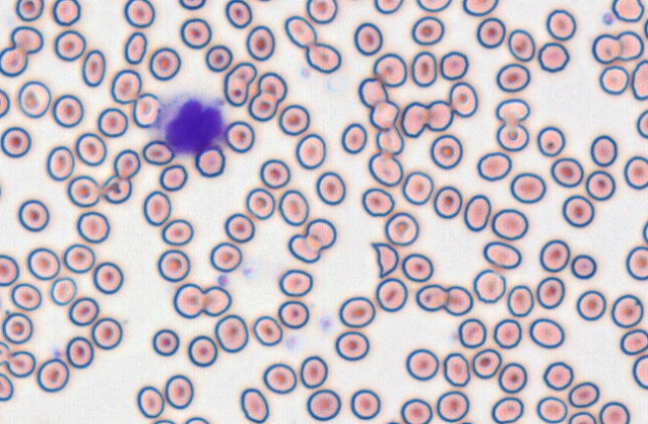MONO: (154, 91, 227, 163)
PLT: (319, 314, 336, 332), (216, 272, 231, 288), (602, 12, 616, 26)
RBC: (223, 62, 257, 106), (17, 80, 51, 118), (214, 314, 248, 352), (368, 151, 403, 186), (384, 211, 419, 246), (372, 52, 407, 87), (491, 208, 528, 240), (338, 296, 375, 328), (610, 293, 643, 328), (306, 388, 341, 421), (305, 41, 341, 73), (278, 189, 309, 226), (509, 172, 546, 203), (473, 269, 506, 303), (36, 358, 69, 392), (26, 247, 60, 280), (405, 348, 439, 381), (401, 170, 433, 205), (110, 68, 142, 103), (430, 134, 462, 169), (375, 277, 407, 312), (262, 362, 297, 394), (295, 133, 326, 169), (483, 240, 521, 269), (157, 249, 190, 282), (66, 175, 100, 207), (76, 211, 110, 243), (173, 283, 204, 318), (529, 317, 564, 348), (334, 330, 369, 361), (245, 25, 275, 61), (239, 387, 269, 423), (448, 81, 478, 117), (476, 151, 512, 181), (304, 218, 336, 251), (284, 15, 316, 48), (148, 47, 180, 80), (51, 94, 83, 127), (436, 390, 469, 422), (562, 194, 594, 227), (75, 132, 106, 166), (164, 374, 194, 409), (495, 62, 530, 92), (400, 101, 429, 137), (142, 190, 171, 226), (463, 194, 491, 231), (54, 29, 86, 61), (278, 103, 310, 135), (18, 199, 49, 232), (91, 317, 122, 350), (209, 241, 242, 272), (539, 239, 570, 272), (92, 261, 123, 294), (287, 233, 321, 263), (315, 171, 345, 205), (278, 268, 313, 297), (46, 145, 74, 181), (2, 312, 33, 344), (537, 41, 569, 72), (545, 8, 576, 40), (62, 243, 95, 273), (550, 157, 583, 187), (361, 187, 394, 217), (411, 15, 444, 45), (9, 25, 43, 54), (132, 92, 160, 127), (442, 352, 470, 387), (410, 51, 437, 87), (0, 126, 31, 157), (180, 18, 211, 49), (224, 212, 255, 243), (195, 145, 225, 177), (245, 187, 275, 219), (224, 120, 254, 152), (187, 335, 217, 367), (576, 289, 606, 321), (401, 252, 433, 282), (350, 388, 380, 420), (496, 122, 529, 151), (299, 355, 328, 388), (536, 276, 565, 309), (353, 22, 382, 55), (433, 185, 462, 218), (257, 71, 287, 102), (591, 33, 621, 64), (259, 158, 290, 188), (497, 362, 527, 393), (471, 348, 501, 379), (585, 170, 615, 201), (97, 107, 128, 137), (68, 296, 99, 326), (252, 315, 282, 346), (9, 282, 41, 311), (65, 336, 94, 368), (277, 300, 309, 329), (136, 385, 164, 418), (506, 284, 534, 317), (507, 28, 535, 61), (81, 49, 105, 87), (369, 99, 399, 129), (599, 65, 629, 95), (358, 77, 387, 108), (101, 175, 132, 204), (202, 285, 231, 316), (542, 361, 573, 390), (476, 17, 505, 48), (415, 283, 447, 311), (491, 396, 524, 423), (495, 98, 530, 123), (248, 91, 277, 121), (375, 125, 404, 155), (444, 285, 473, 315), (457, 318, 486, 348), (439, 50, 468, 80), (536, 126, 565, 156), (0, 46, 28, 77), (113, 148, 141, 179), (123, 0, 154, 28), (426, 99, 453, 131), (161, 218, 193, 245), (590, 134, 617, 166), (340, 122, 367, 154), (6, 350, 36, 378), (493, 318, 521, 348), (536, 396, 567, 423), (568, 381, 599, 408), (142, 139, 174, 165), (623, 155, 647, 189), (49, 276, 77, 305), (617, 30, 644, 60), (400, 398, 432, 423), (123, 31, 147, 64), (204, 44, 232, 72), (224, 0, 252, 28), (51, 0, 81, 26), (625, 245, 647, 280), (159, 164, 187, 191), (152, 328, 179, 356), (306, 0, 337, 24), (620, 328, 647, 355), (611, 0, 644, 22), (598, 401, 630, 423), (570, 253, 596, 279), (631, 59, 647, 100), (15, 0, 44, 21), (0, 254, 19, 286), (462, 0, 498, 16), (632, 354, 647, 389), (416, 0, 451, 12), (373, 0, 403, 14), (0, 372, 14, 401), (568, 411, 596, 423), (636, 109, 647, 138), (0, 88, 10, 118), (178, 0, 205, 10), (0, 340, 10, 364), (183, 416, 209, 423), (642, 219, 648, 245), (150, 418, 175, 423), (643, 17, 648, 39), (0, 174, 3, 203), (383, 420, 403, 424), (455, 420, 474, 424), (249, 0, 277, 2)
Schistocyte: (370, 241, 398, 277)
